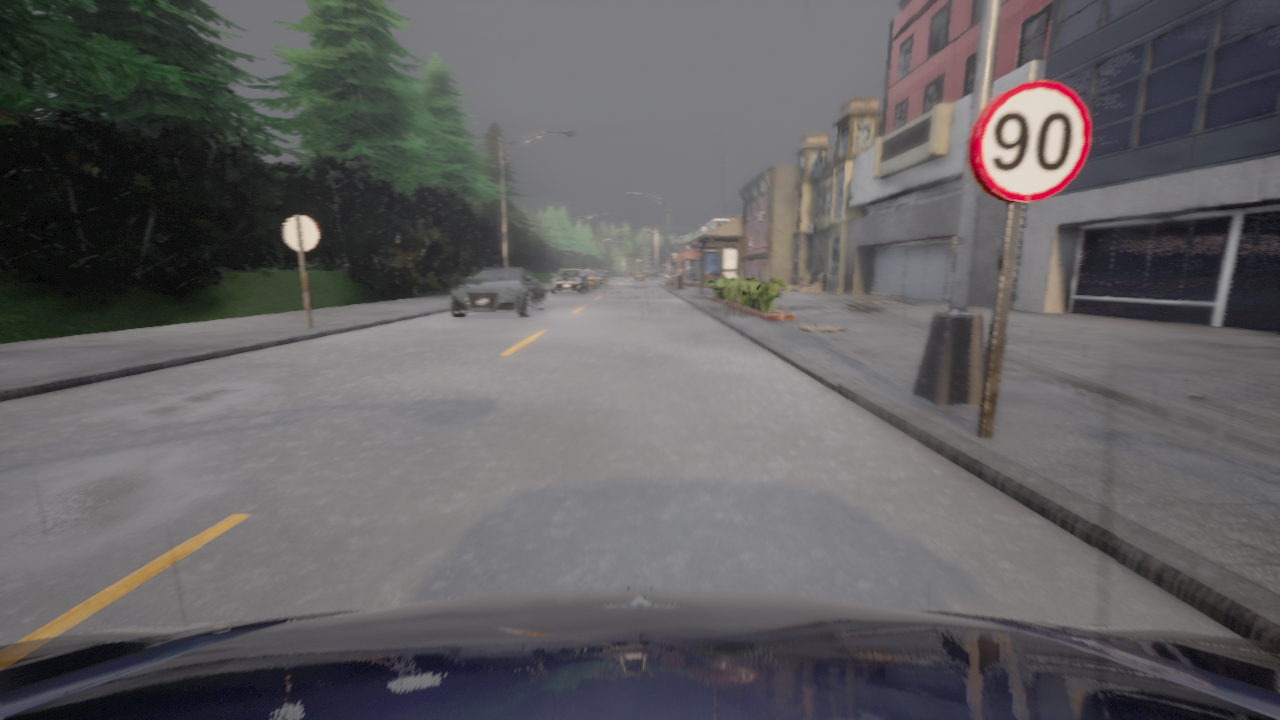cyclist: (0, 588, 1279, 719), (449, 268, 546, 317), (550, 269, 588, 294), (582, 268, 599, 289), (591, 269, 609, 285), (634, 272, 643, 279), (635, 272, 642, 280), (648, 273, 653, 275)
